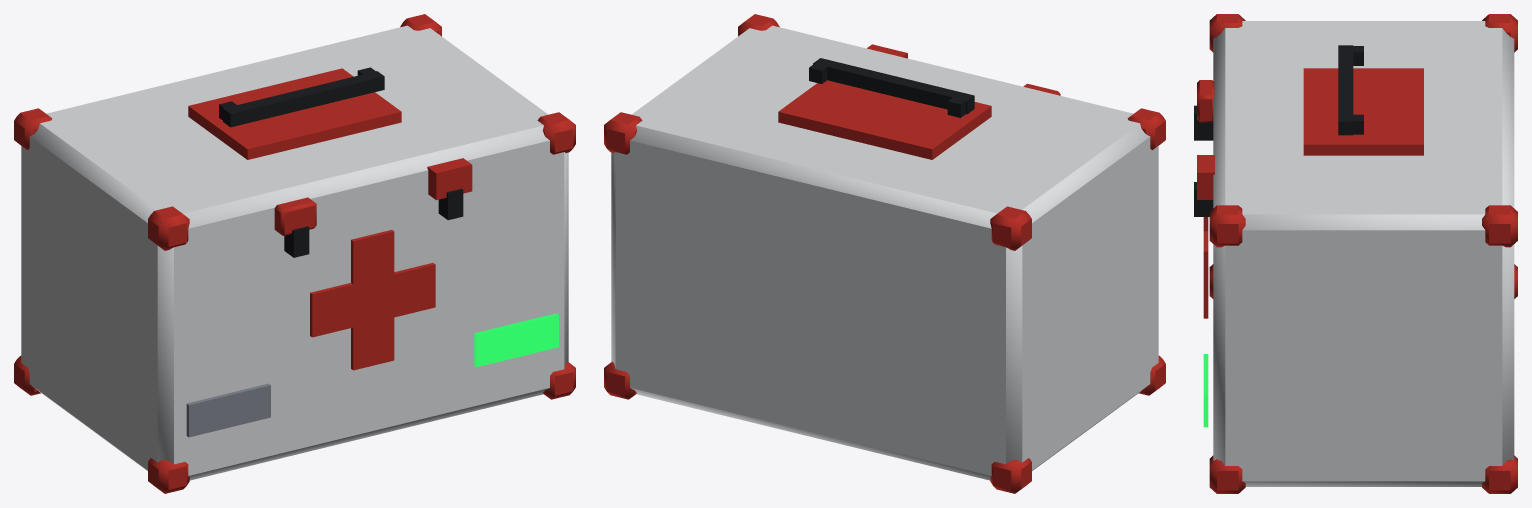
Rendered from crate_medical_supply.glb.
The picture shows the model from 3 angles, left to right: view 1: azimuth 30°, elevation 25°; view 2: azimuth 150°, elevation 25°; view 3: azimuth 270°, elevation 25°; orthographic projection.
Parts seen in each view (by area): view 1: crate_medical_supply; view 2: crate_medical_supply; view 3: crate_medical_supply.
Boxes of the visible parts, x1=… form: crate_medical_supply: x1=14, y1=14, x2=575, y2=493; crate_medical_supply: x1=604, y1=14, x2=1165, y2=493; crate_medical_supply: x1=1194, y1=14, x2=1517, y2=493.
Size of the model in its own units: 0.812 by 0.5685 by 0.538.
